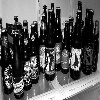beer: (48, 12, 63, 82)
